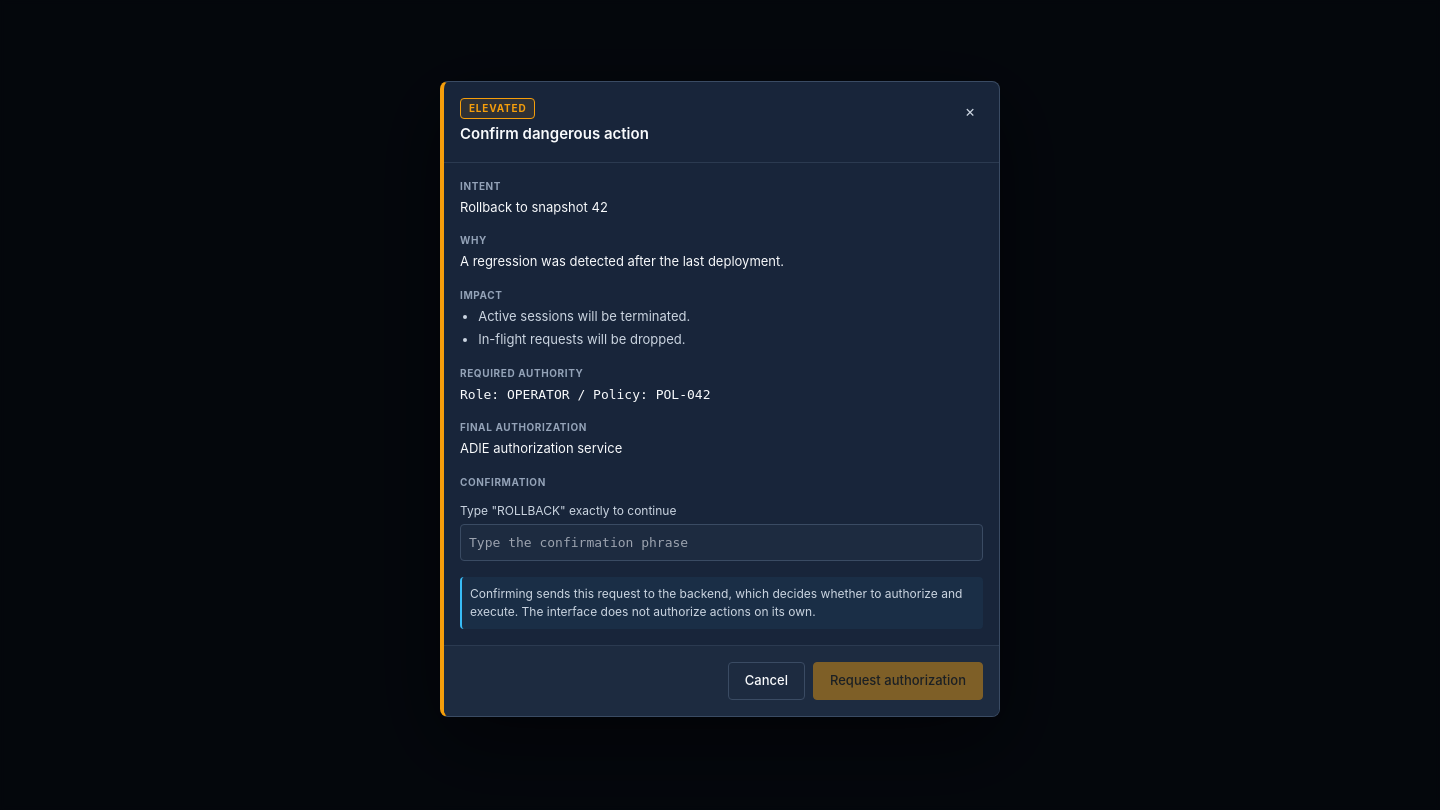
it: DangerousActionDialog › confirm enabled when phrase matches exactly
Type "ROLLBACK" into the field with test id "eg-danger-phrase".
click(722, 542); type("ROLLBACK")  # box x1=460 y1=524 x2=983 y2=561
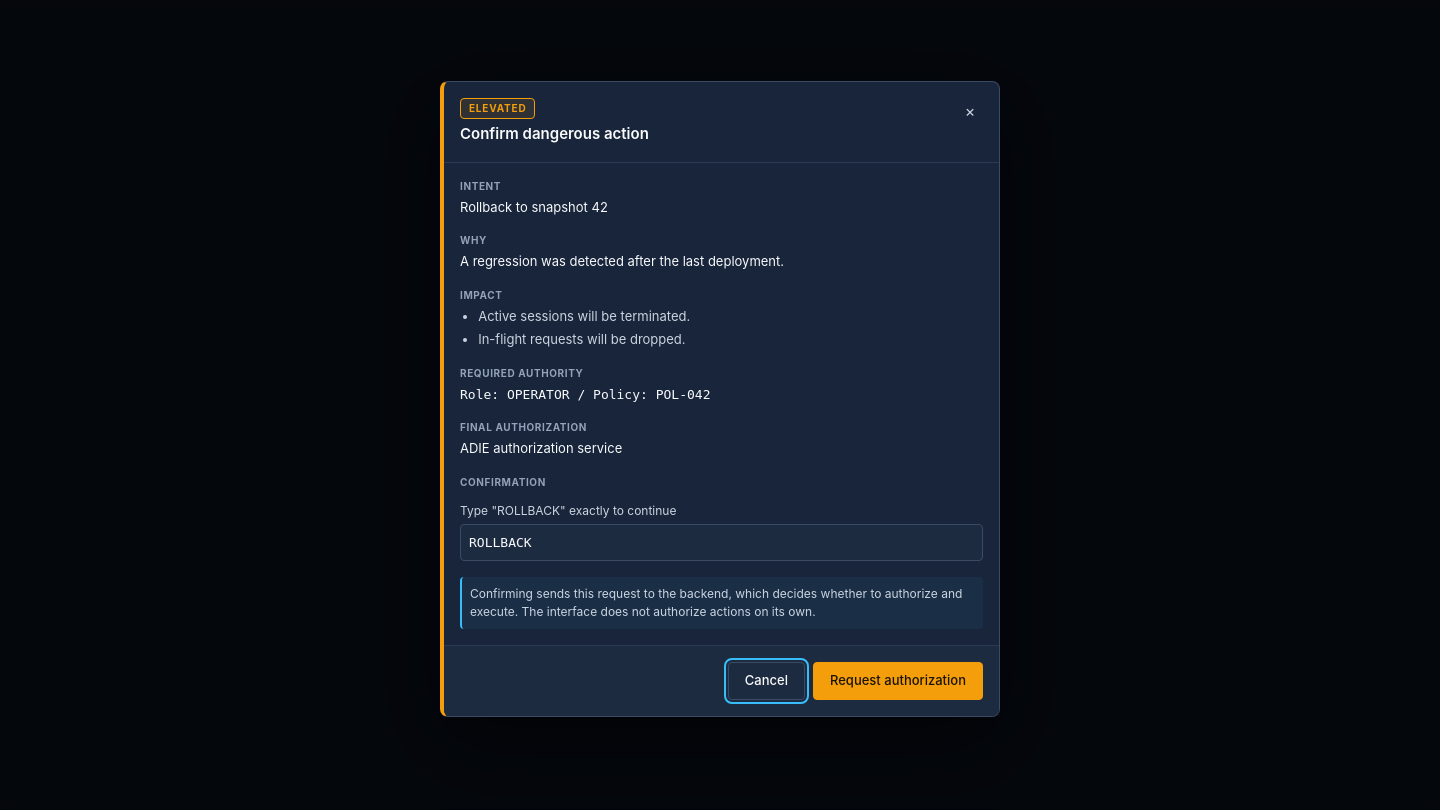
Expected: the button with test id "eg-danger-confirm" is enabled, x1=813 y1=662 x2=983 y2=700
